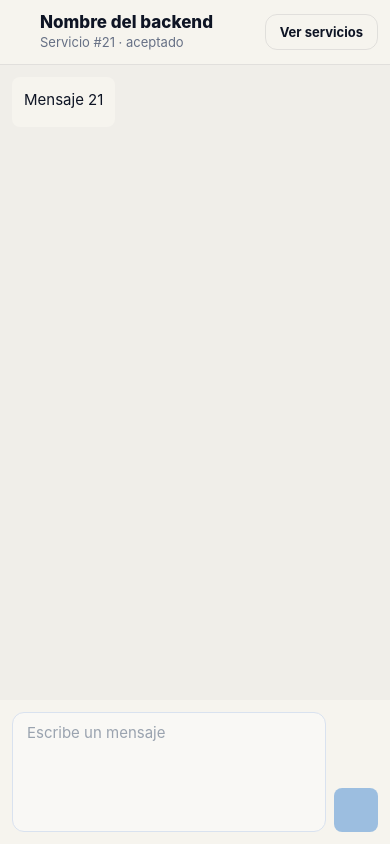
Test: conserva borrador ante fallo al enviar
Expected: the text "Mensaje 21" is shown, [24,89,103,111]
Type "Mi mensaje" into the text box with placeholder "Escribe un mensaje" at (169, 742), box [27,723,311,761]
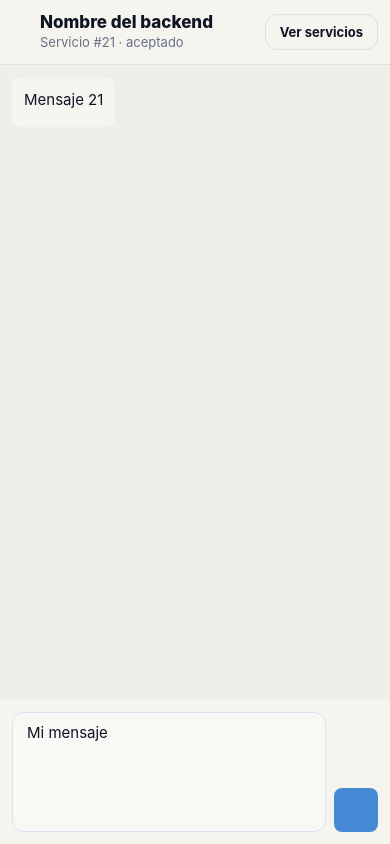
Click the button named "Enviar mensaje" at (356, 810), box [334,788,378,832]
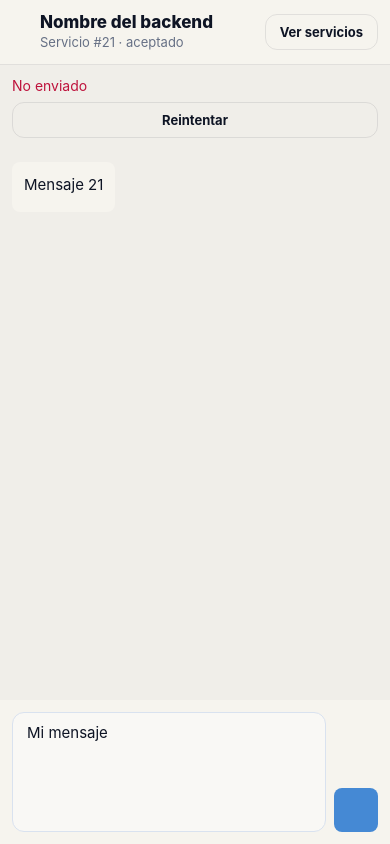
Result: the text "No enviado" is shown at [12,77,87,94]
